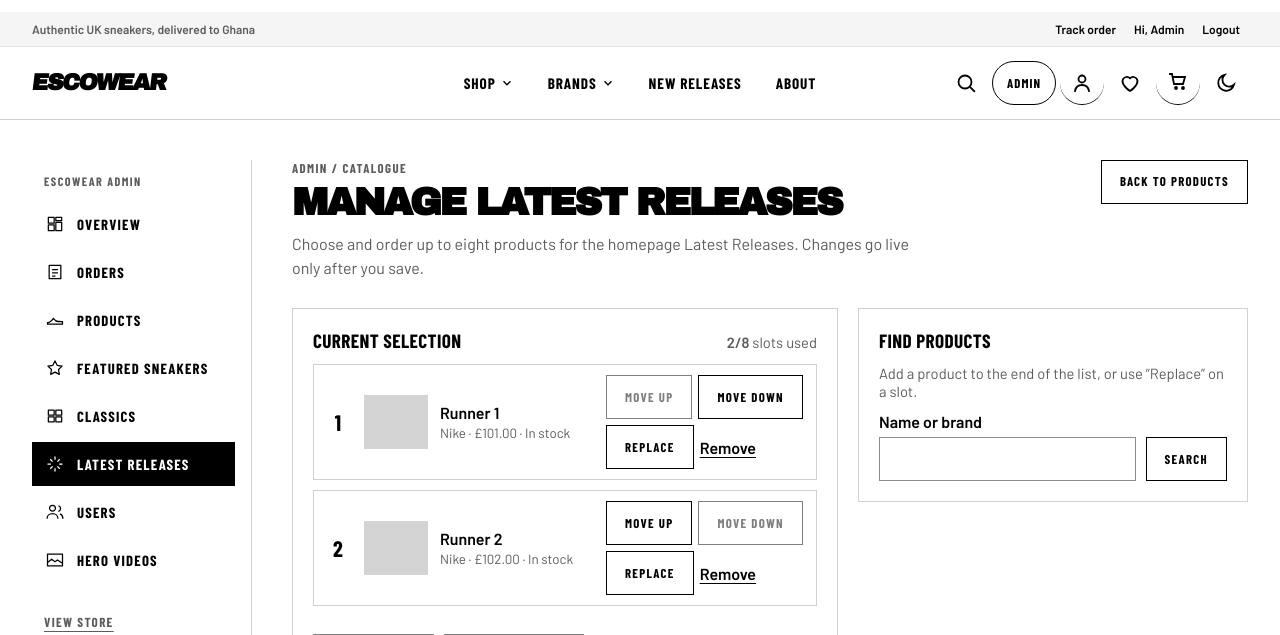
an admin can clear and save an empty selection, or discard unsaved edits
Click the button with aria-label "Remove Runner 1" at (728, 448), box [700, 426, 756, 470]
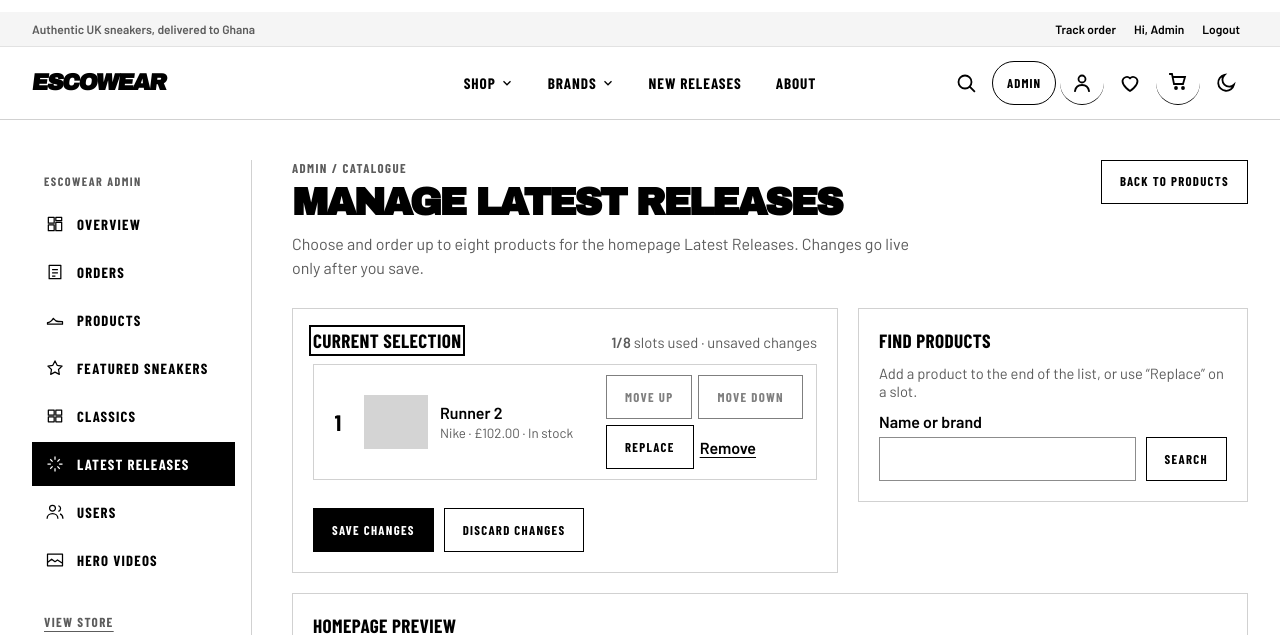
Click the button "Discard changes" at (514, 530), box [444, 508, 584, 552]
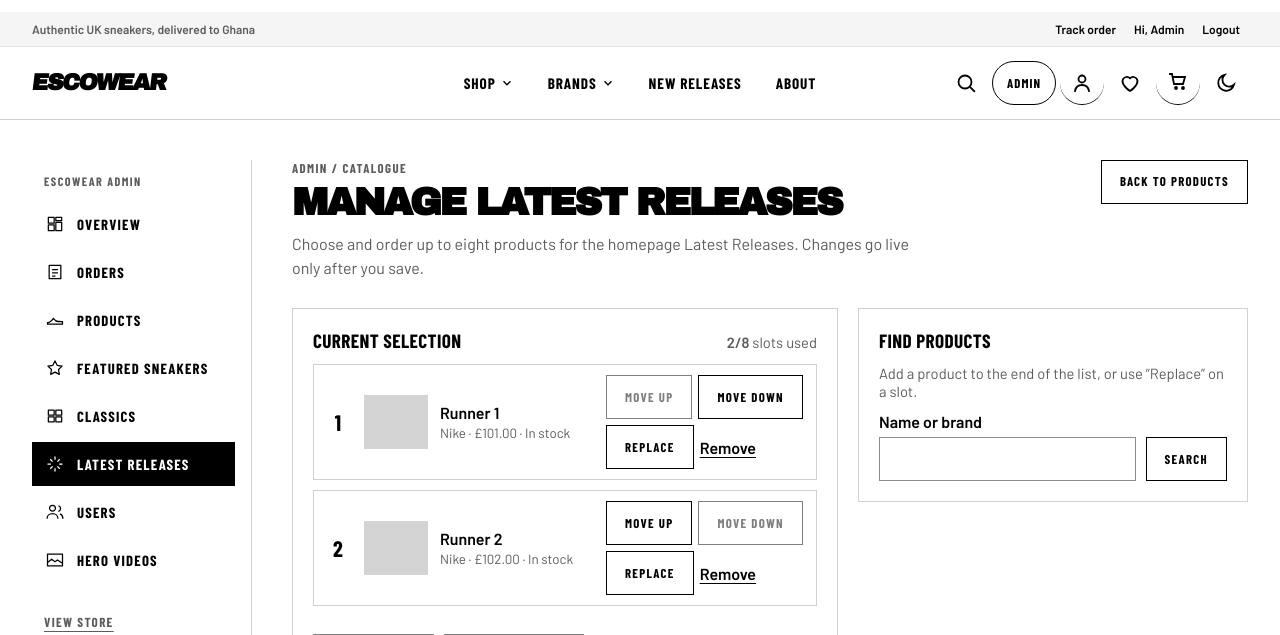
Click the button with aria-label "Remove Runner 1" at (728, 448), box [700, 426, 756, 470]
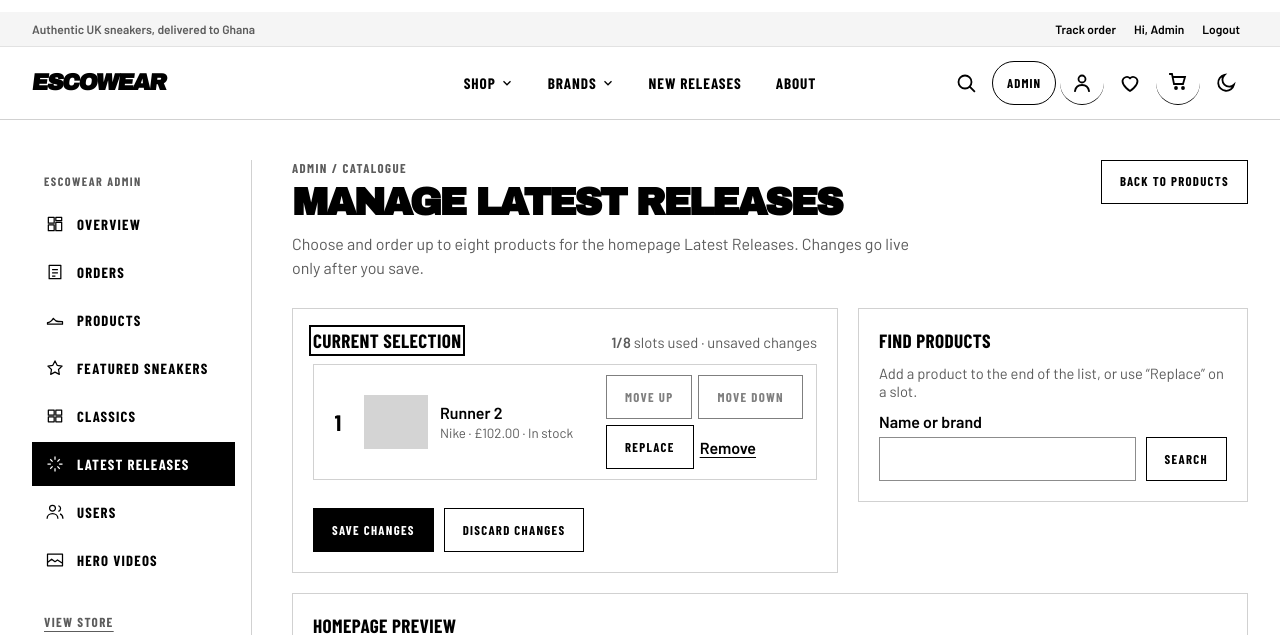
Click the button with aria-label "Remove Runner 2" at (728, 448), box [700, 426, 756, 470]
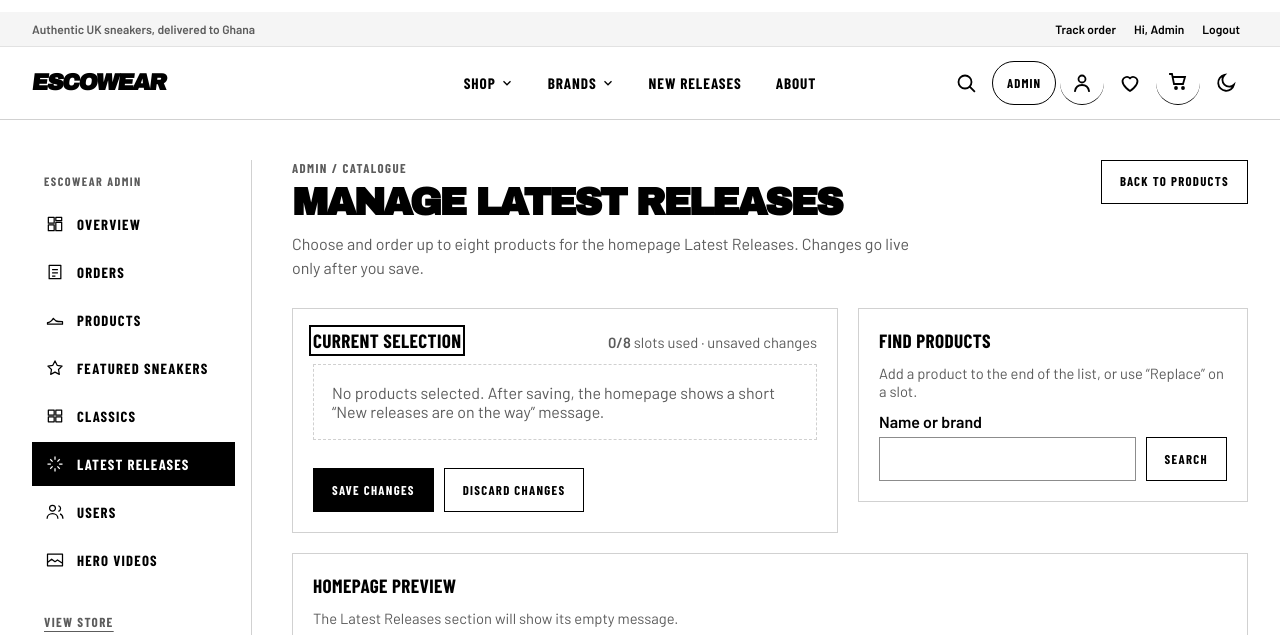
expect the text "No products selected" is shown: met, box [332, 384, 775, 422]
expect the text "The Latest Releases section will show its empty message." is shown: met, box [313, 610, 678, 628]
Click the button "Save changes" at (373, 490), box [313, 468, 434, 512]
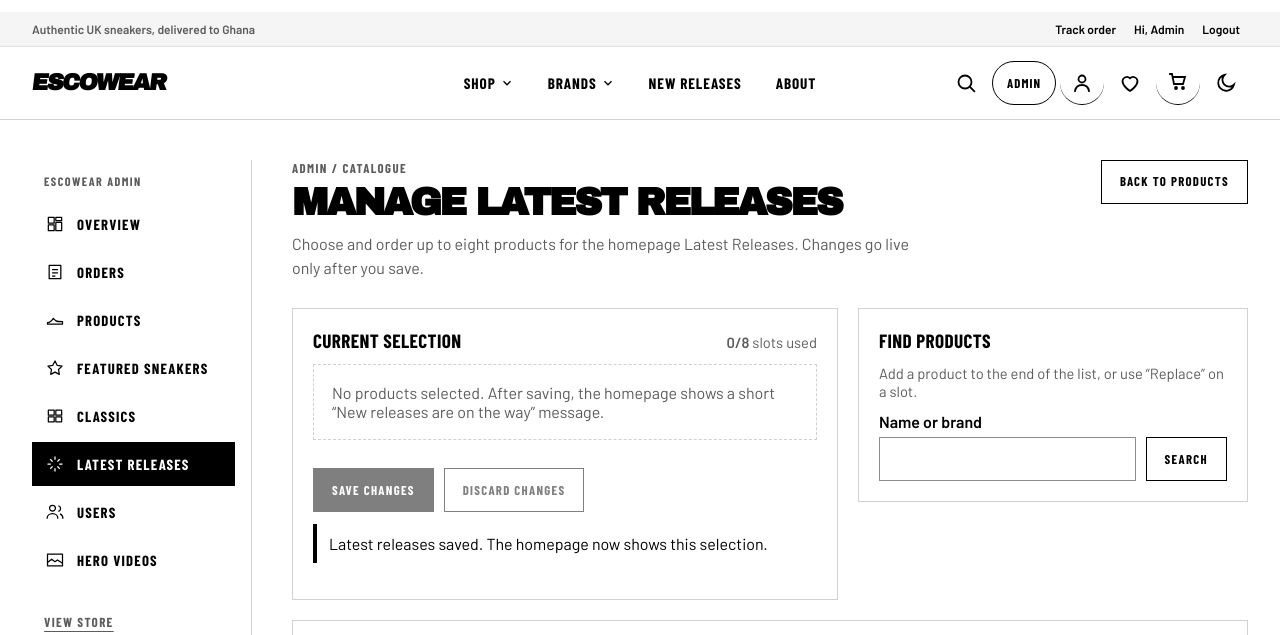
expect the text "Latest releases saved. The homepage now shows this selection." is shown: met, box [313, 524, 817, 564]
